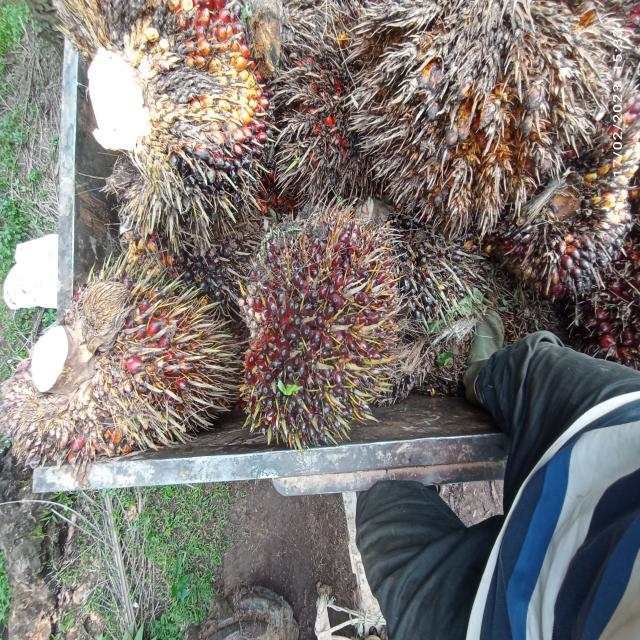fraksi 00: (90, 0, 280, 232), (505, 67, 640, 317), (380, 212, 488, 333)
fraksi 1: (6, 247, 252, 469), (227, 187, 408, 463)
fraksi 4: (280, 28, 375, 200)
